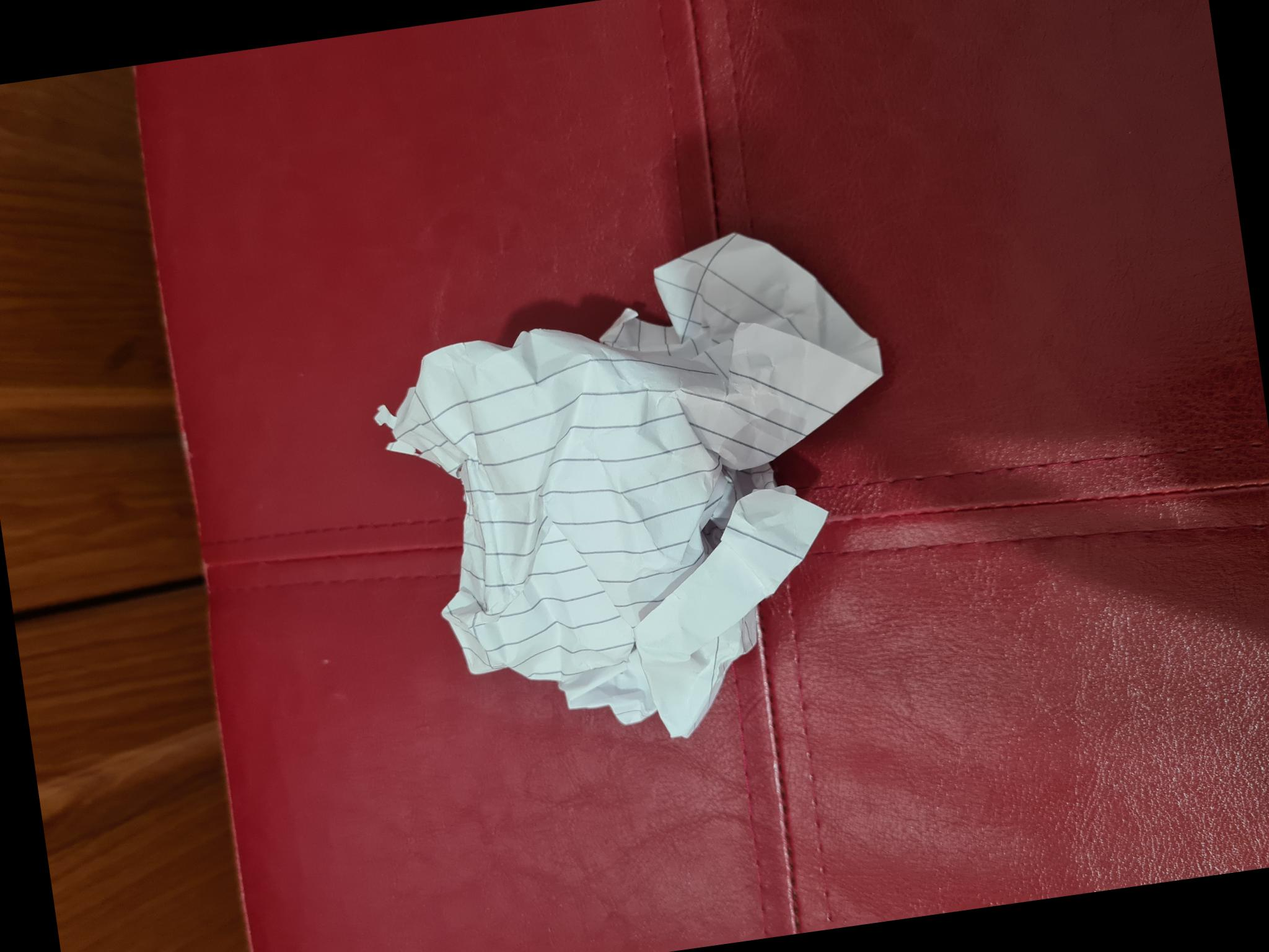Kertas: (216, 392, 741, 912)
